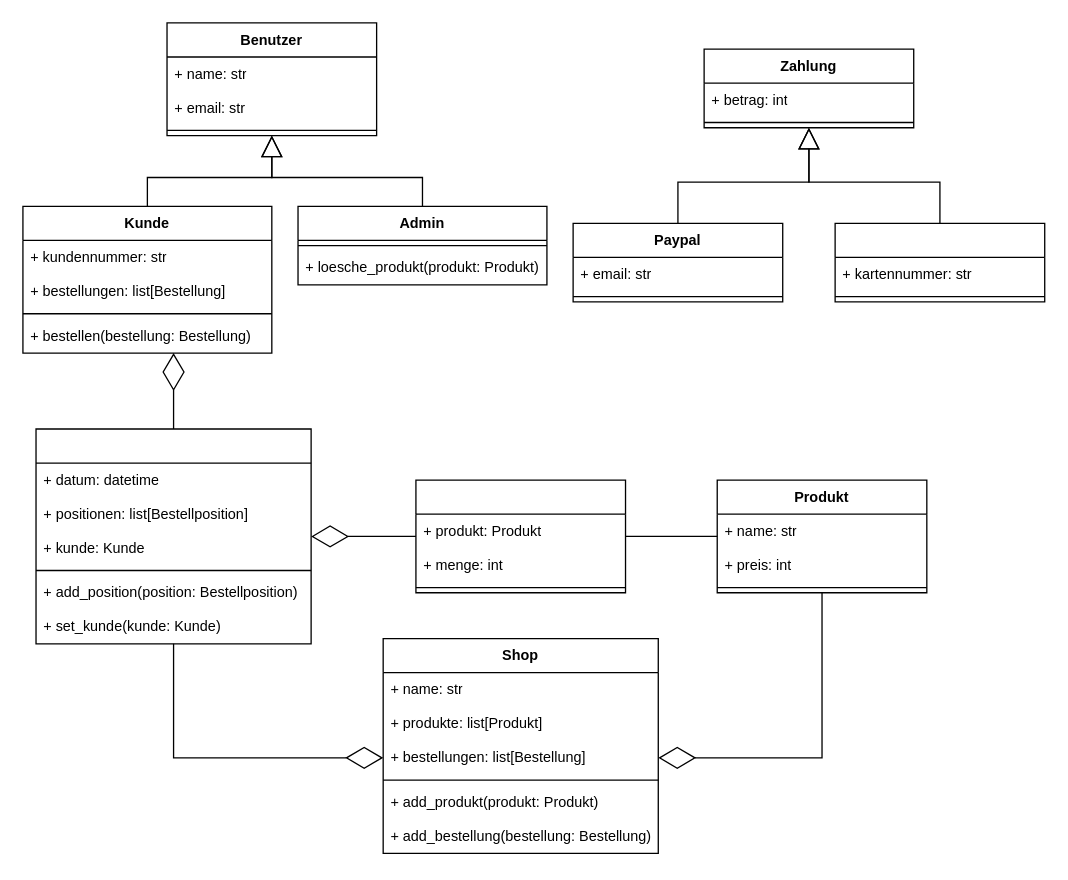
Image size: 1068x880. Some labels were removed from this diagram. Here are the shapes that lost their labels. From the top down, the box of each, then its label:
(834, 222, 1045, 302): Kreditkarte
(35, 428, 311, 644): Bestellung
(415, 479, 626, 593): Bestellposition
